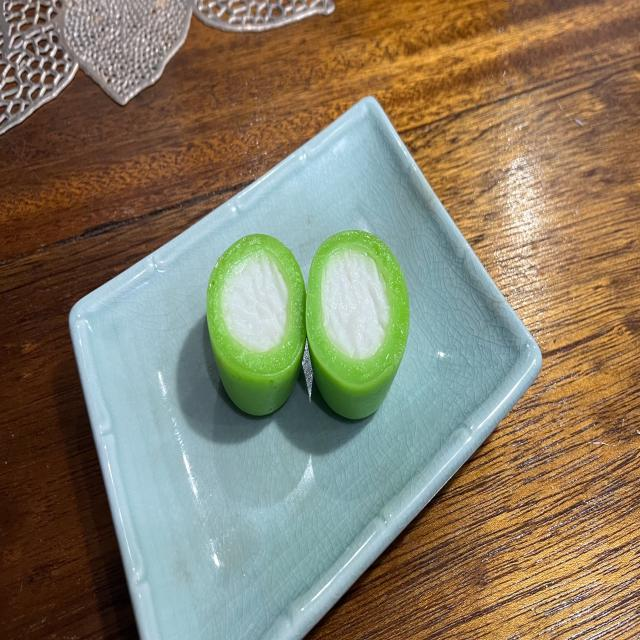nona-manis: (306, 231, 410, 420), (206, 233, 306, 416)
